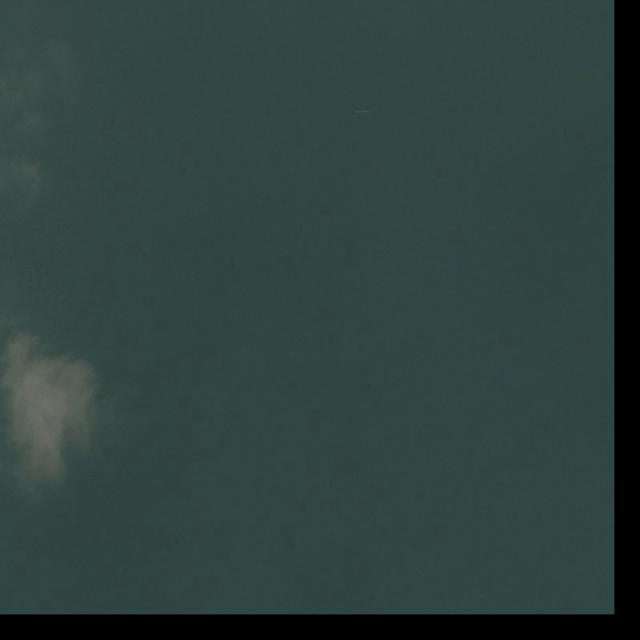ship: (354, 110, 371, 114)
